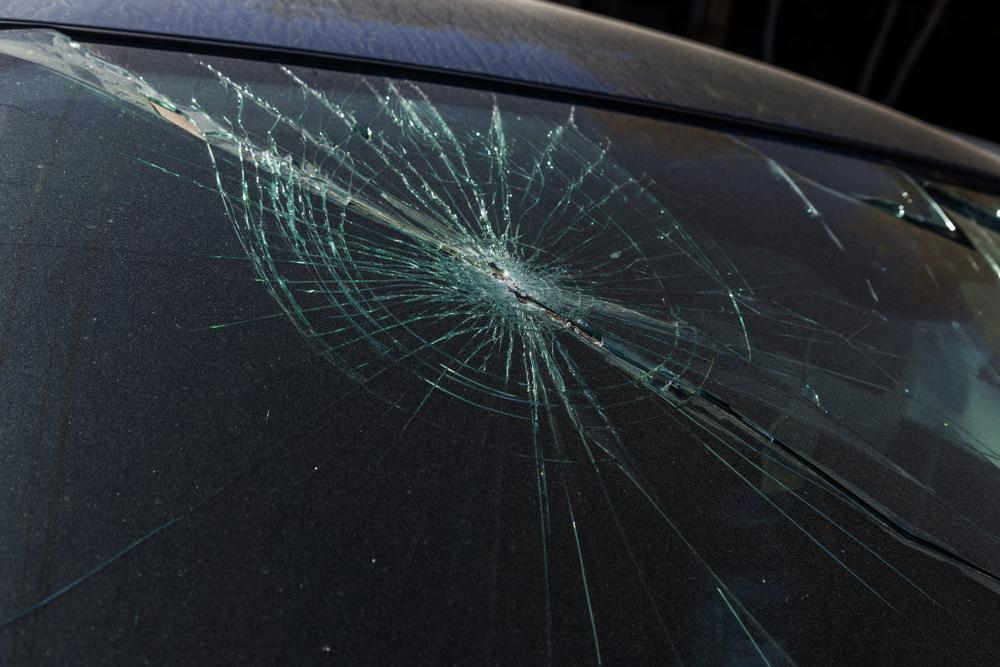glass shatter: (0, 28, 1000, 667)
